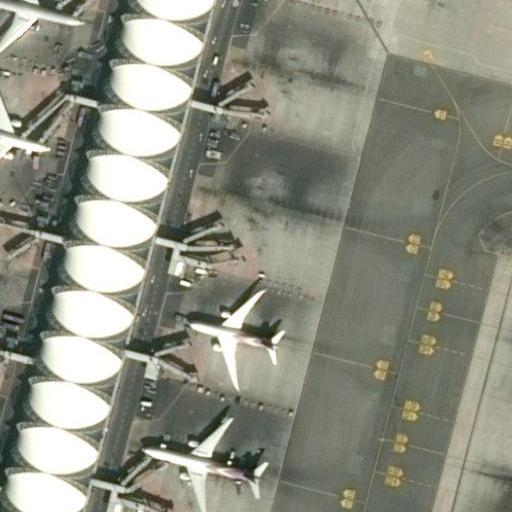Aircraft: (141, 410, 261, 512), (183, 280, 290, 387), (0, 84, 50, 185), (0, 0, 80, 62)
